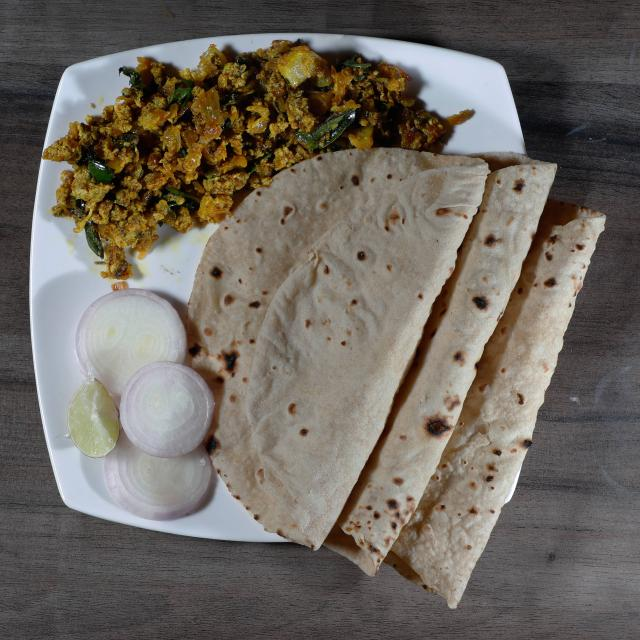roti: (183, 149, 600, 613)
